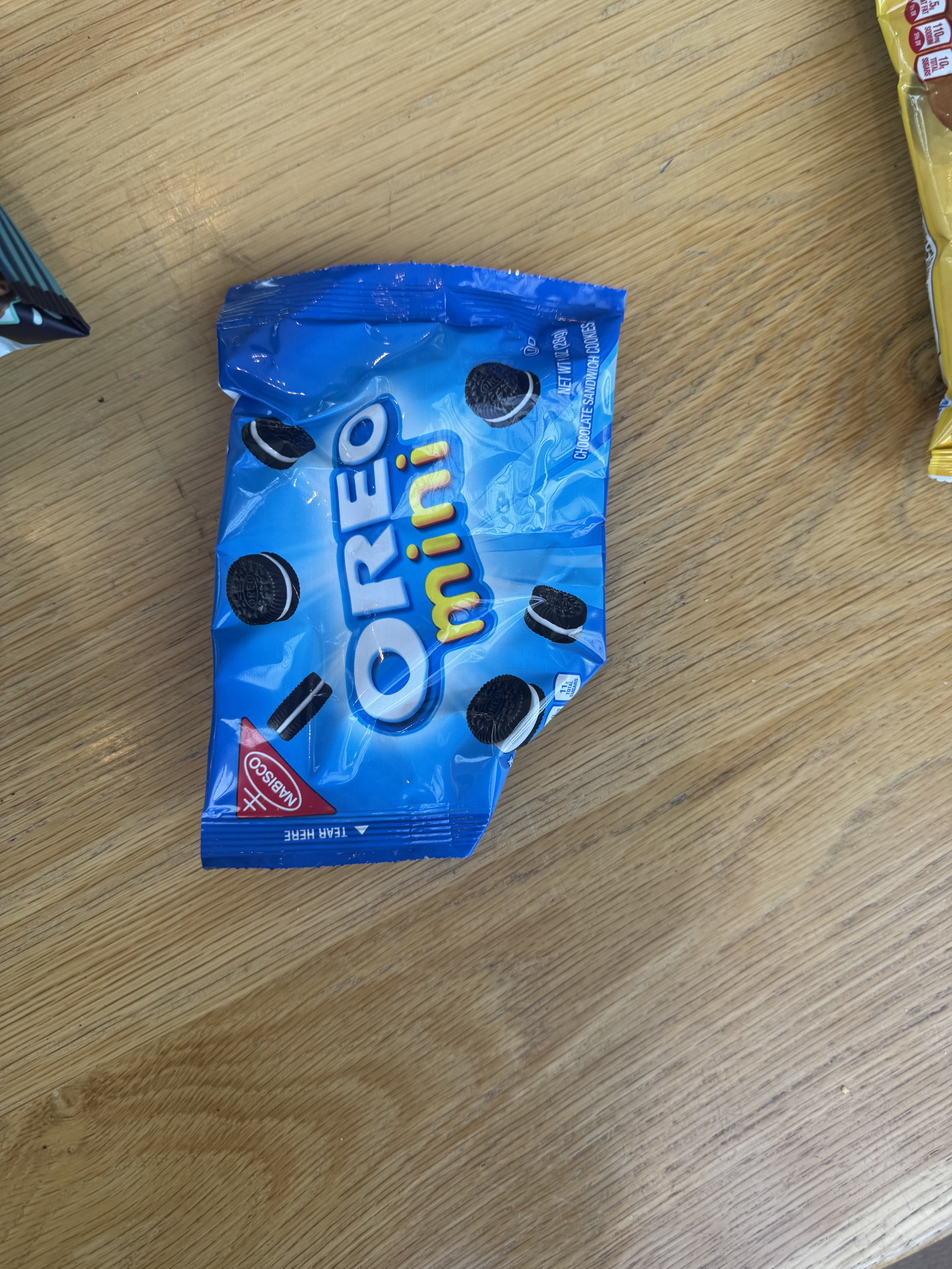oreo_mini: (190, 258, 618, 869)
